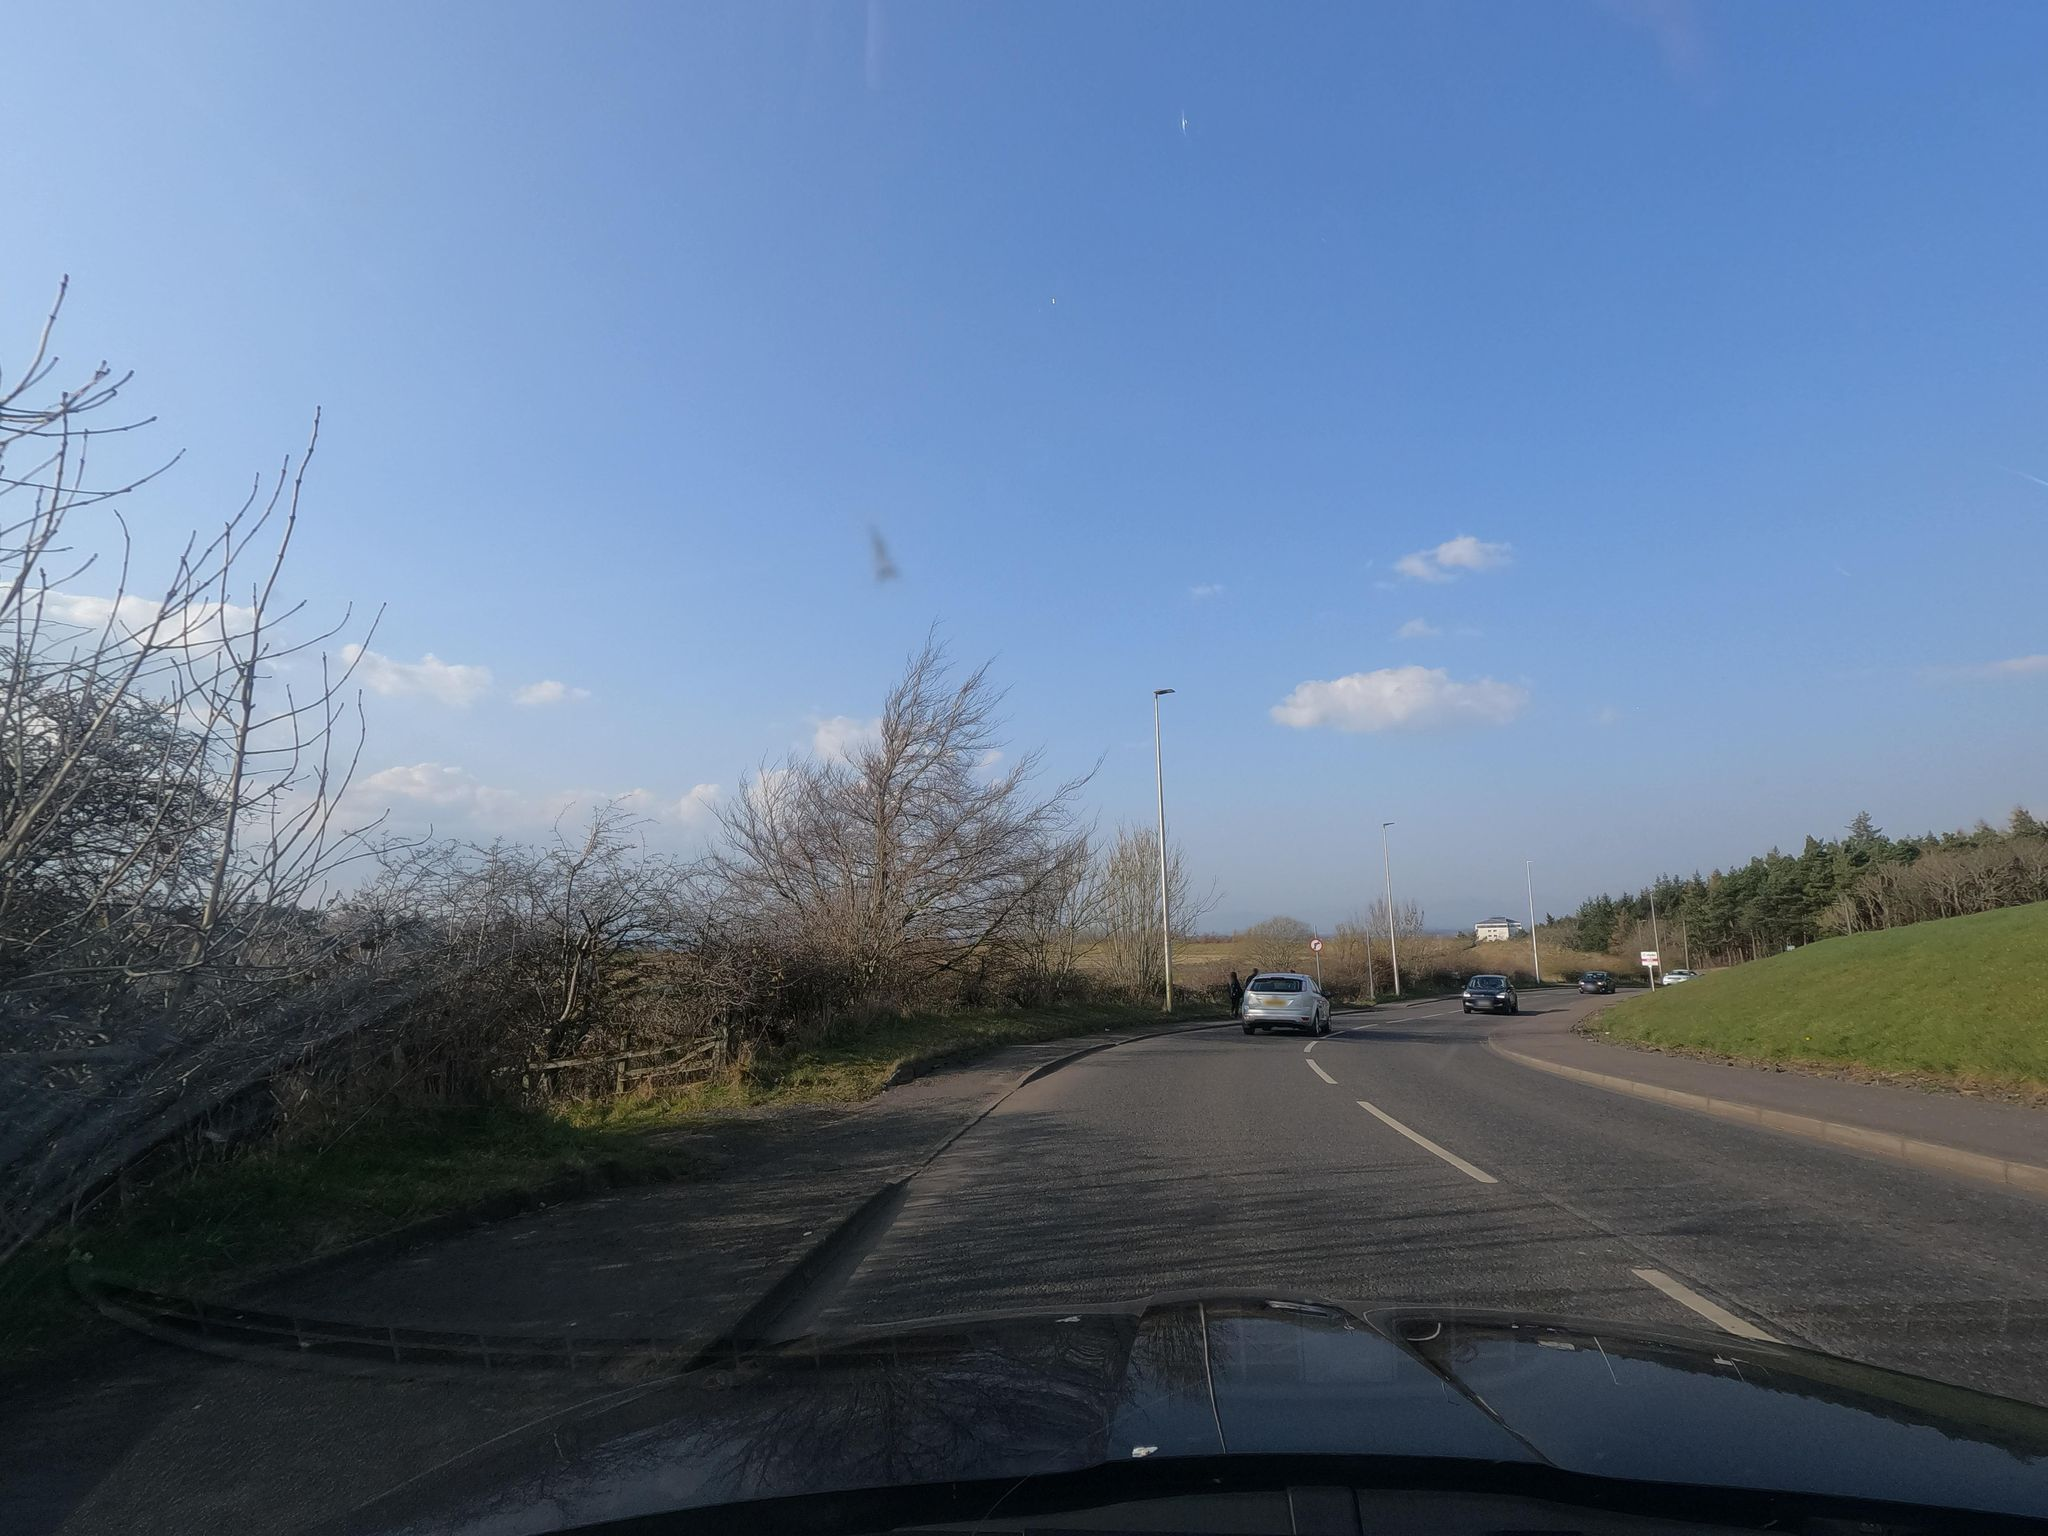car: (1240, 971, 1330, 1034), (1459, 975, 1517, 1013), (1576, 970, 1616, 992), (1661, 970, 1696, 984)
